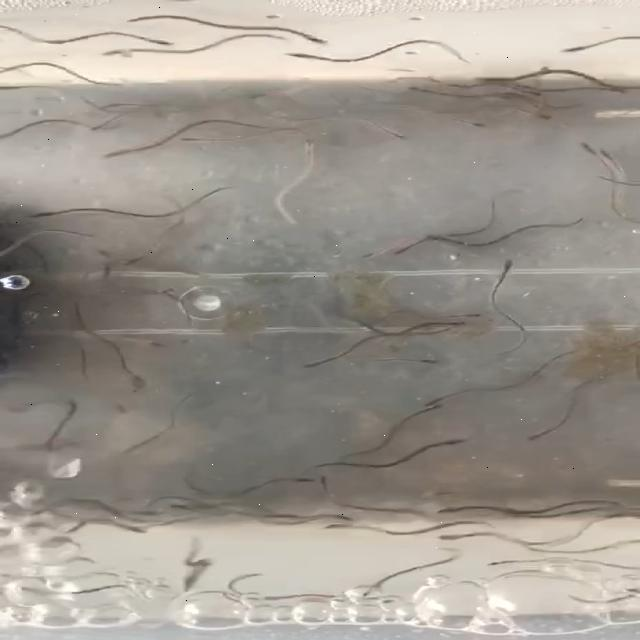active_glass_eel: (300, 354, 340, 370), (422, 232, 462, 248), (524, 106, 556, 125), (514, 84, 546, 102), (100, 40, 136, 56), (524, 428, 557, 444), (364, 598, 400, 612), (128, 336, 164, 350), (602, 82, 629, 100), (285, 50, 322, 63), (299, 135, 327, 152), (154, 284, 180, 302), (436, 434, 468, 448), (416, 400, 448, 414), (253, 88, 290, 100), (560, 42, 586, 59), (532, 62, 554, 82), (30, 438, 57, 454), (560, 590, 584, 608), (573, 141, 603, 155), (170, 393, 196, 409), (90, 248, 119, 262), (352, 247, 383, 260), (308, 592, 341, 604), (104, 148, 132, 162), (422, 394, 448, 409), (148, 34, 180, 46), (495, 258, 519, 274), (89, 118, 112, 134), (328, 512, 358, 524), (597, 147, 622, 161), (501, 509, 536, 519), (292, 32, 326, 42), (28, 210, 62, 220), (118, 255, 142, 269), (437, 318, 465, 330), (105, 400, 129, 414), (383, 127, 410, 139), (128, 376, 146, 394), (121, 524, 148, 536), (408, 356, 440, 366), (100, 100, 126, 112), (437, 531, 463, 543), (172, 502, 198, 514), (324, 521, 358, 530), (462, 118, 492, 128), (286, 476, 316, 486), (177, 135, 204, 146), (410, 84, 434, 96), (129, 507, 155, 518), (311, 476, 331, 490), (480, 560, 514, 568), (70, 232, 100, 241), (438, 504, 462, 515), (356, 585, 376, 598), (462, 311, 484, 322), (392, 246, 409, 258)
